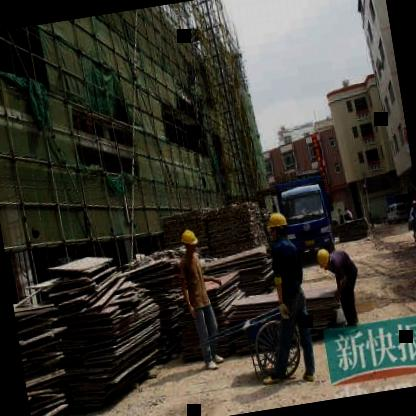helmet: (263, 207, 290, 238), (177, 228, 201, 257), (311, 244, 335, 273)
